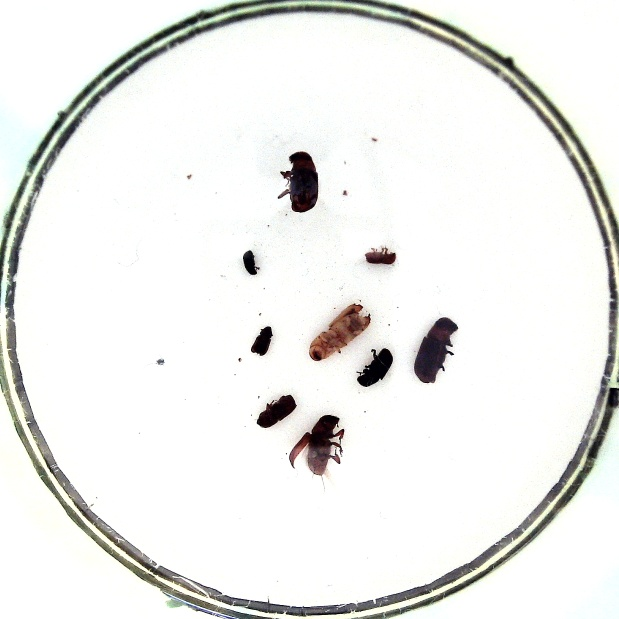acuminatus: (242, 250, 256, 275)
armandi: (356, 348, 393, 386)
boerner: (309, 303, 370, 361)
coleoptera: (251, 326, 272, 356), (364, 251, 395, 263)
leconte: (414, 316, 458, 383), (307, 414, 340, 475), (289, 151, 317, 212)
linnaeus: (256, 394, 297, 428)
